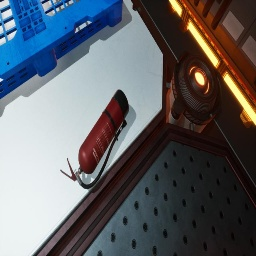FireExtinguisher ]: (60, 89, 129, 189)
